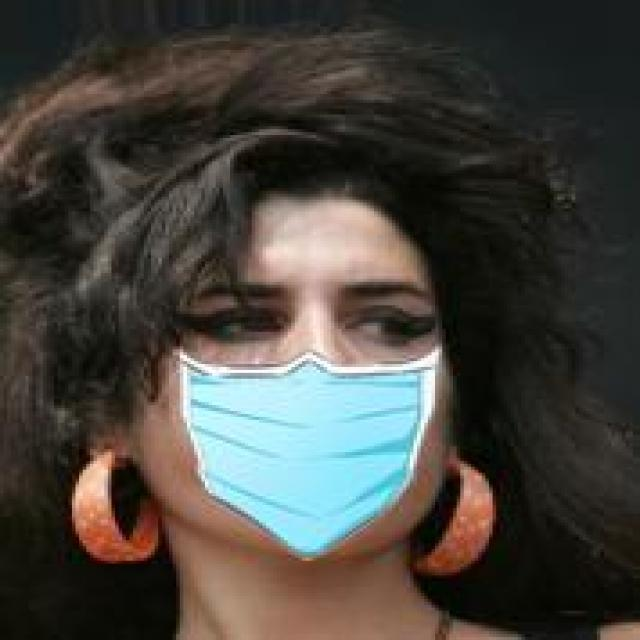mask: (93, 91, 510, 602)
